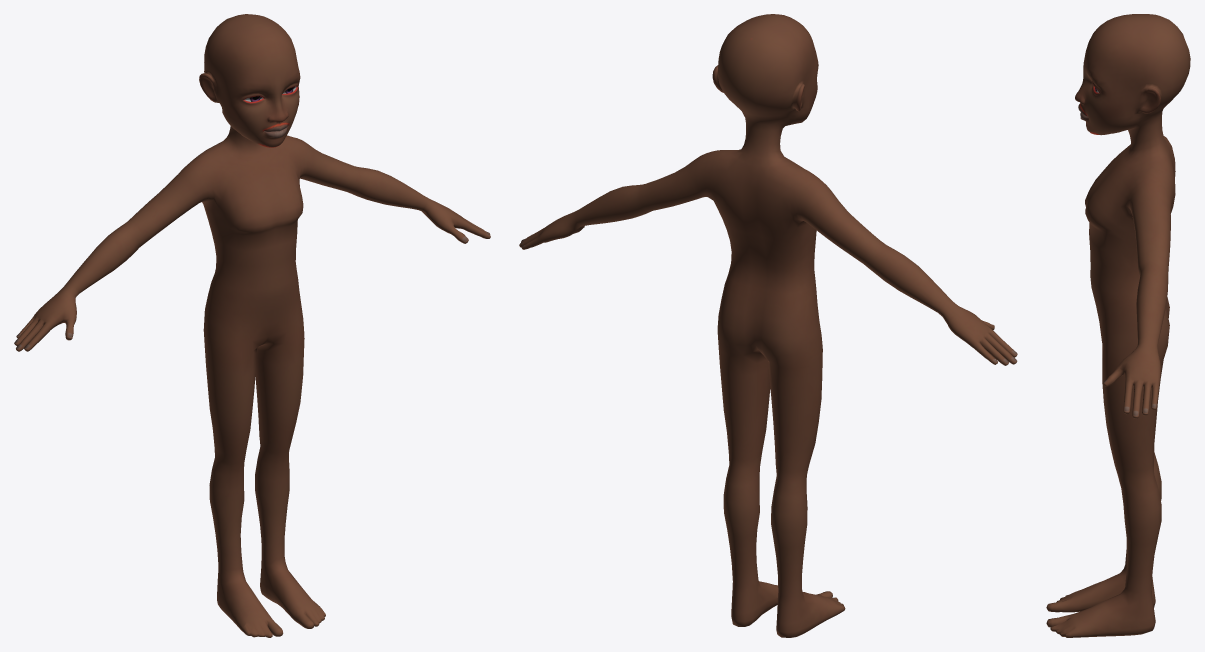
The model's file is frame_0072.glb.
3 views of the same model, side by side, from view 1: azimuth 30°, elevation 25°; view 2: azimuth 150°, elevation 25°; view 3: azimuth 270°, elevation 25° (orthographic). The views are drawn at different scales.
Visible parts, largest first — view 1: frame_0072_head_geo; view 2: frame_0072_head_geo; view 3: frame_0072_head_geo.
Part boxes in pixels (bbox=[...]): frame_0072_head_geo: bbox=[14, 14, 490, 637]; frame_0072_head_geo: bbox=[519, 14, 1017, 637]; frame_0072_head_geo: bbox=[1046, 14, 1190, 637].
Bounding box in the file's own units: 1.28 × 1.5 × 0.3253.
3 materials, 3 textured.
